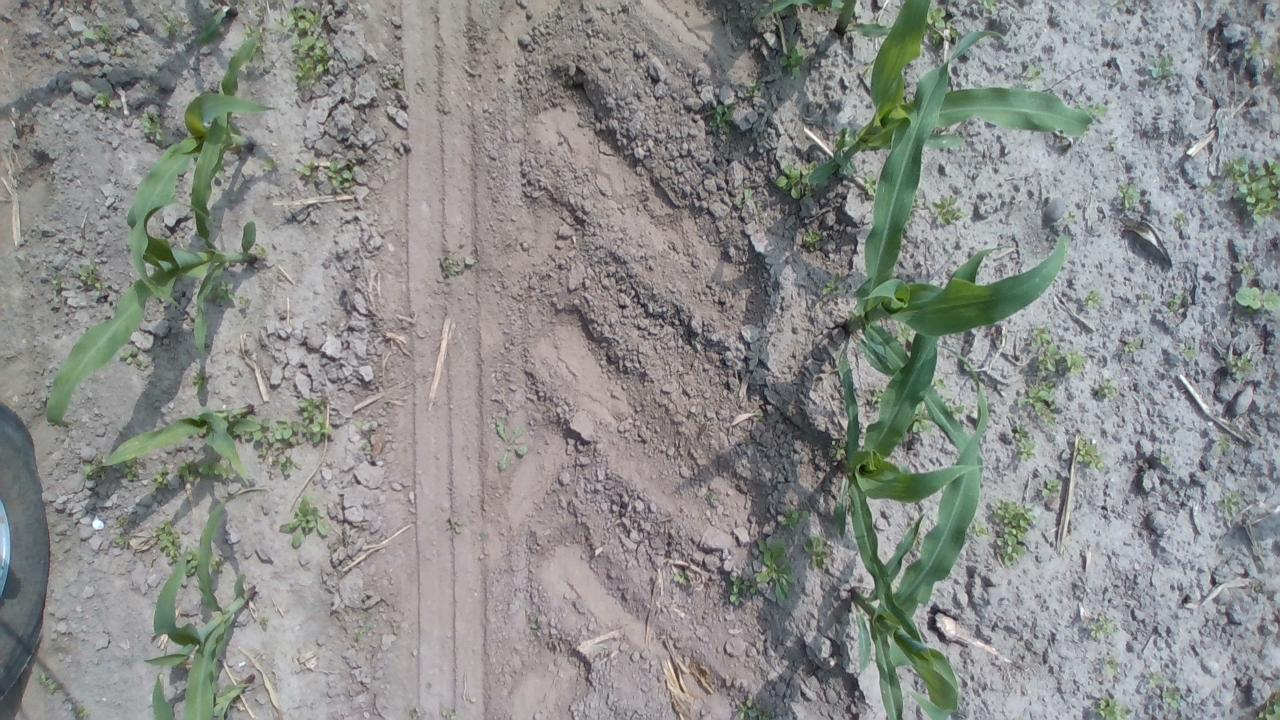Maize: (41, 20, 262, 428), (837, 243, 1035, 659), (846, 29, 1008, 466), (807, 0, 1092, 187), (850, 342, 990, 720), (120, 90, 280, 320), (150, 496, 254, 720), (86, 405, 253, 486), (752, 0, 894, 39), (151, 672, 255, 720)
Weeds: (1224, 154, 1280, 226), (286, 5, 330, 88), (991, 498, 1038, 564), (278, 494, 329, 549), (755, 538, 797, 603), (775, 160, 819, 202), (1018, 380, 1058, 426), (493, 420, 528, 471), (297, 397, 334, 444), (920, 6, 959, 50), (178, 460, 235, 481), (154, 519, 180, 563), (1235, 286, 1280, 311), (932, 195, 968, 225), (802, 535, 832, 571), (234, 413, 271, 442), (268, 420, 304, 449), (780, 38, 806, 78), (1075, 437, 1106, 469), (243, 24, 268, 63), (1036, 343, 1063, 379), (730, 575, 759, 606), (1094, 697, 1132, 720), (1014, 424, 1037, 461), (76, 262, 106, 290), (81, 21, 113, 47), (709, 104, 736, 134), (911, 400, 934, 435), (326, 162, 354, 190), (142, 110, 166, 142), (738, 699, 772, 720), (206, 280, 234, 304), (1148, 53, 1174, 78), (906, 191, 924, 227), (1116, 182, 1140, 209), (780, 509, 810, 530), (1230, 354, 1254, 380), (1064, 350, 1090, 374), (1089, 614, 1112, 640), (1073, 101, 1108, 118), (822, 271, 846, 295), (1218, 491, 1239, 518), (1257, 696, 1280, 720), (118, 456, 138, 481), (940, 396, 965, 416), (802, 228, 822, 252), (118, 346, 142, 366), (1030, 327, 1052, 348), (36, 673, 58, 694), (356, 612, 372, 640), (1021, 63, 1042, 84), (1161, 686, 1181, 708), (184, 546, 198, 576), (896, 320, 914, 343), (154, 466, 172, 489), (85, 462, 108, 480), (862, 172, 878, 197), (1097, 379, 1118, 398), (1244, 36, 1262, 58), (1144, 670, 1166, 688), (968, 521, 989, 539), (190, 371, 208, 392), (272, 456, 293, 474), (1041, 478, 1060, 497), (161, 14, 179, 34), (1168, 292, 1184, 314), (829, 441, 848, 459), (734, 188, 751, 208), (870, 386, 886, 407), (1082, 290, 1100, 308), (1180, 344, 1198, 362), (442, 257, 458, 277), (1216, 433, 1230, 453), (1105, 657, 1119, 676), (215, 158, 228, 178), (95, 92, 112, 107), (1270, 54, 1280, 78), (449, 518, 465, 533), (1240, 262, 1258, 275), (977, 0, 996, 12), (747, 80, 761, 96), (209, 556, 223, 572), (930, 376, 946, 390), (302, 160, 316, 175), (273, 17, 287, 32), (393, 74, 406, 90), (1124, 340, 1140, 353), (441, 708, 458, 720), (673, 571, 687, 585), (74, 706, 90, 718), (1204, 183, 1218, 195), (1174, 212, 1184, 228), (114, 536, 130, 546), (51, 274, 61, 290), (115, 514, 128, 526), (264, 158, 276, 170), (255, 245, 266, 258), (1160, 455, 1172, 466), (1066, 212, 1076, 224), (257, 447, 268, 457), (359, 442, 372, 450), (1142, 293, 1150, 306), (259, 617, 269, 627), (114, 46, 124, 55), (707, 494, 719, 501), (354, 420, 364, 428), (1115, 0, 1125, 8), (240, 298, 248, 306), (532, 621, 540, 629), (410, 708, 417, 717), (758, 412, 765, 420)
